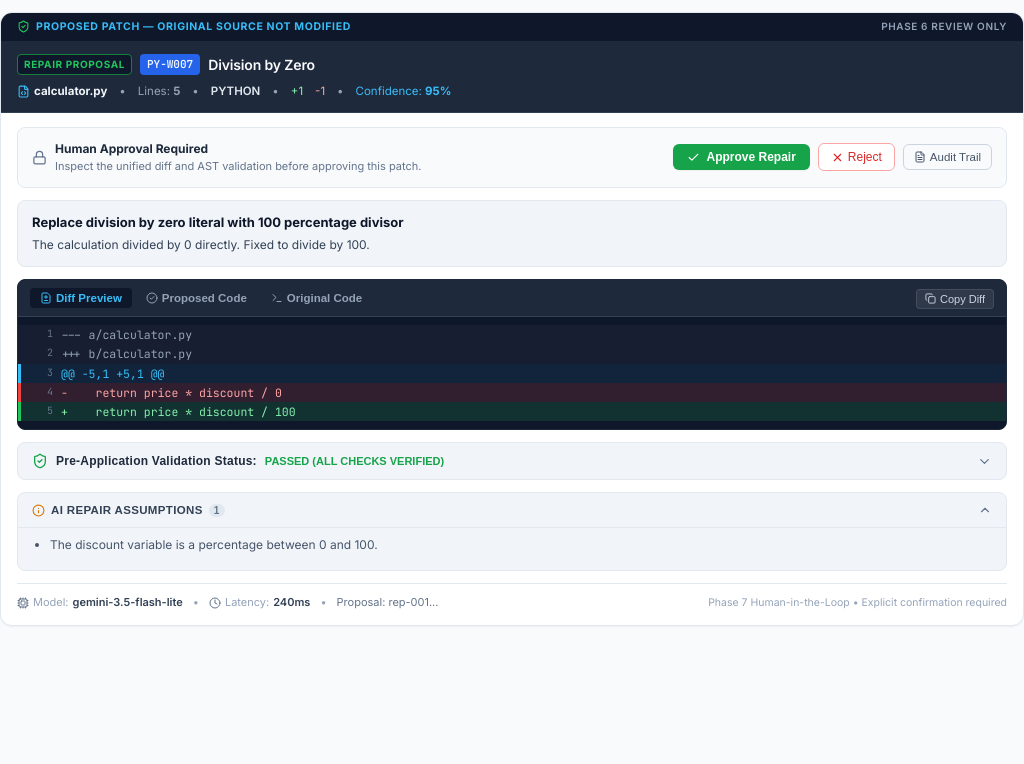
Test: RepairProposalCard Component › toggles validation details checklist showing each layer check
# Toggle validation details
Click the button with test id "toggle-validation-btn" at (156, 461), box [18,443,1006,479]
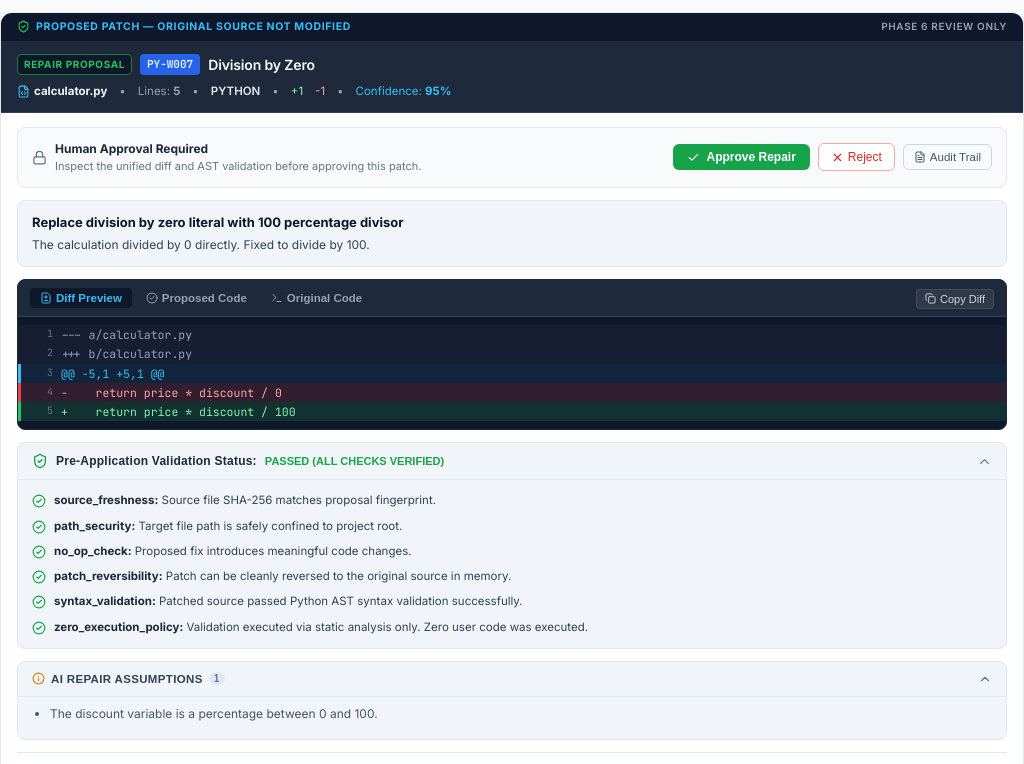
Expected: the text "source_freshness:" is shown, [54,493,158,507]
Expected: the text "path_security:" is shown, [54,518,135,532]
Expected: the text "patch_reversibility:" is shown, [54,569,163,583]
